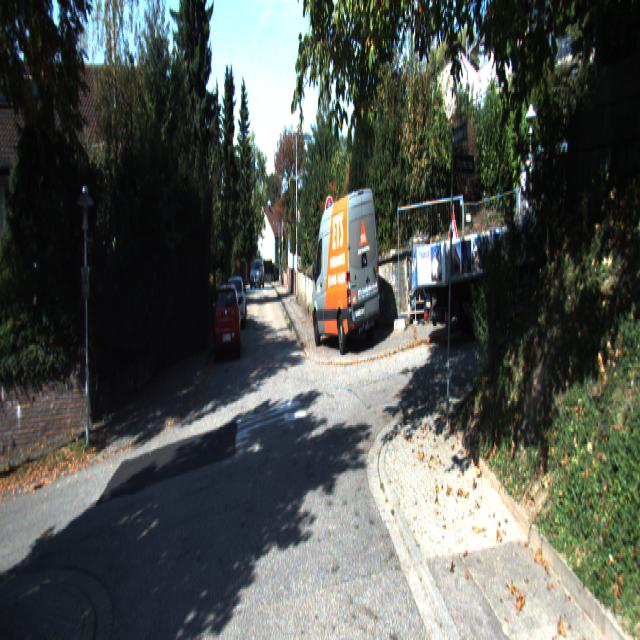Car: (415, 144, 576, 385), (311, 184, 381, 358), (211, 276, 242, 362), (226, 276, 248, 328), (250, 258, 264, 286)
